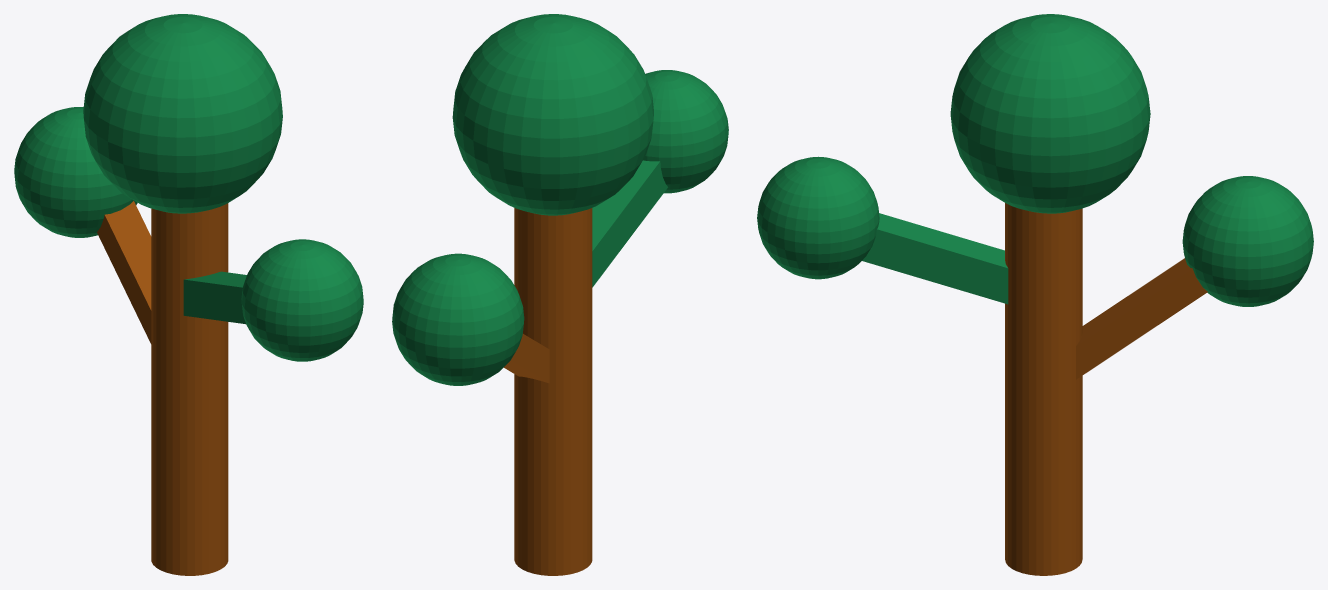
The model's file is Tree.fbx.
The picture shows the model from 3 angles, left to right: view 1: azimuth 30°, elevation 25°; view 2: azimuth 150°, elevation 25°; view 3: azimuth 270°, elevation 25°; orthographic projection.
Visible parts, largest first — view 1: Sphere, Cylinder, Cube.001, Sphere.001, Cube; view 2: Sphere, Cylinder, Sphere.001, Cube.001, Cube; view 3: Sphere, Cylinder, Cube.001, Sphere.001, Cube.
Boxes of the visible parts, <box> form: Sphere: <box>83,14,282,213</box>; Cylinder: <box>151,203,228,575</box>; Cube.001: <box>183,239,363,361</box>; Sphere.001: <box>14,107,137,237</box>; Cube: <box>97,201,151,343</box>; Sphere: <box>452,14,653,215</box>; Cylinder: <box>514,208,592,575</box>; Sphere.001: <box>392,253,524,385</box>; Cube.001: <box>592,70,728,287</box>; Cube: <box>504,334,549,383</box>; Sphere: <box>950,14,1150,213</box>; Cylinder: <box>1005,203,1082,575</box>; Cube.001: <box>757,156,1008,304</box>; Sphere.001: <box>1182,176,1313,306</box>; Cube: <box>1076,258,1207,379</box>.
Bounding box in the file's own units: 517 × 1524 × 1439.
